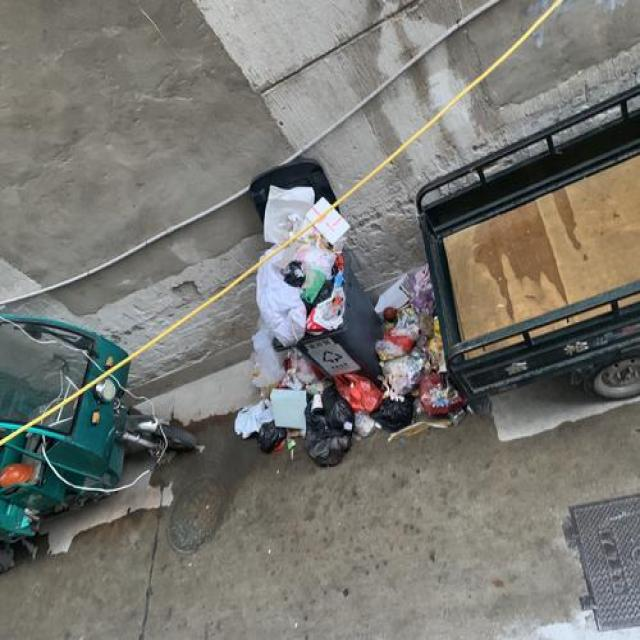garbage: (232, 264, 472, 466)
overflow: (253, 181, 383, 380)
